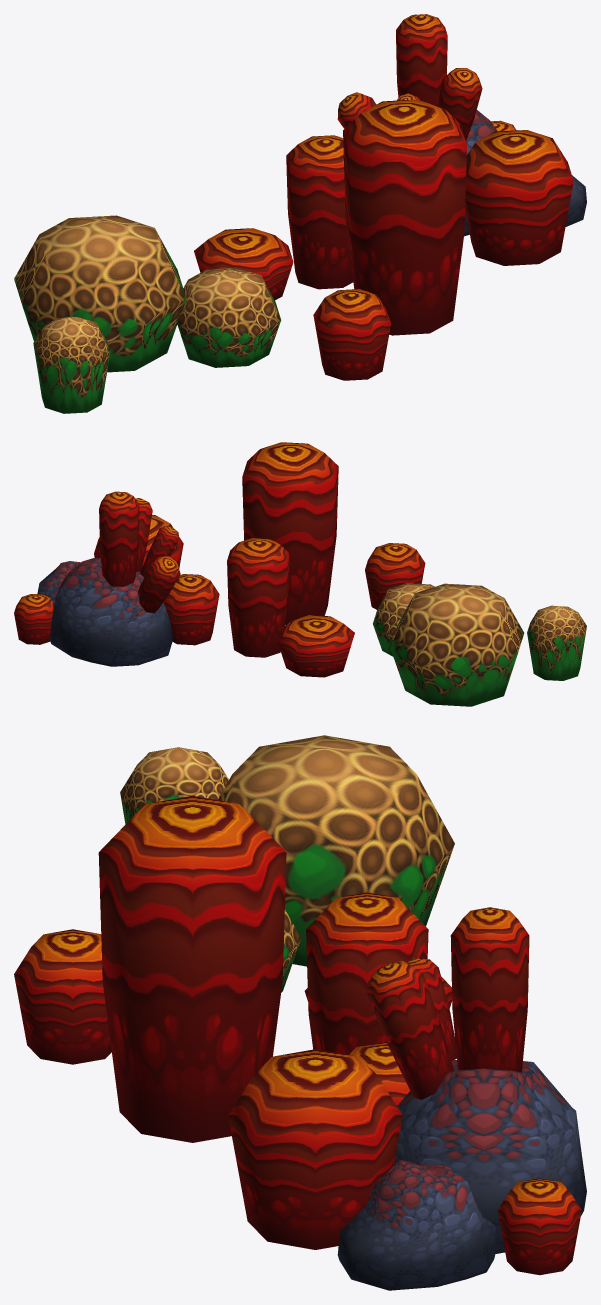
File: CoralSet_16.FBX
3 renders of one model, top to bottom at view 1: azimuth 30°, elevation 25°; view 2: azimuth 150°, elevation 25°; view 3: azimuth 270°, elevation 25°, orthographic. The views are drawn at different scales.
Parts seen in each view (by area): view 1: Sphere040, Sphere006, Plane032; view 2: Sphere040, Sphere006, Plane032; view 3: Sphere040, Sphere006, Plane032.
Boxes of the visible parts, box(x1,y1,x2,y2) form: Sphere040: box(194, 14, 573, 380); Sphere006: box(14, 215, 281, 413); Plane032: box(464, 110, 586, 236); Sphere040: box(14, 442, 425, 677); Sphere006: box(373, 583, 586, 706); Plane032: box(37, 557, 173, 666); Sphere040: box(14, 796, 581, 1275); Sphere006: box(120, 735, 454, 992); Plane032: box(337, 1060, 586, 1290).
Size of the model in its own units: 10366 by 3319 by 5657.
Materials: 3 (3 with a texture image).
